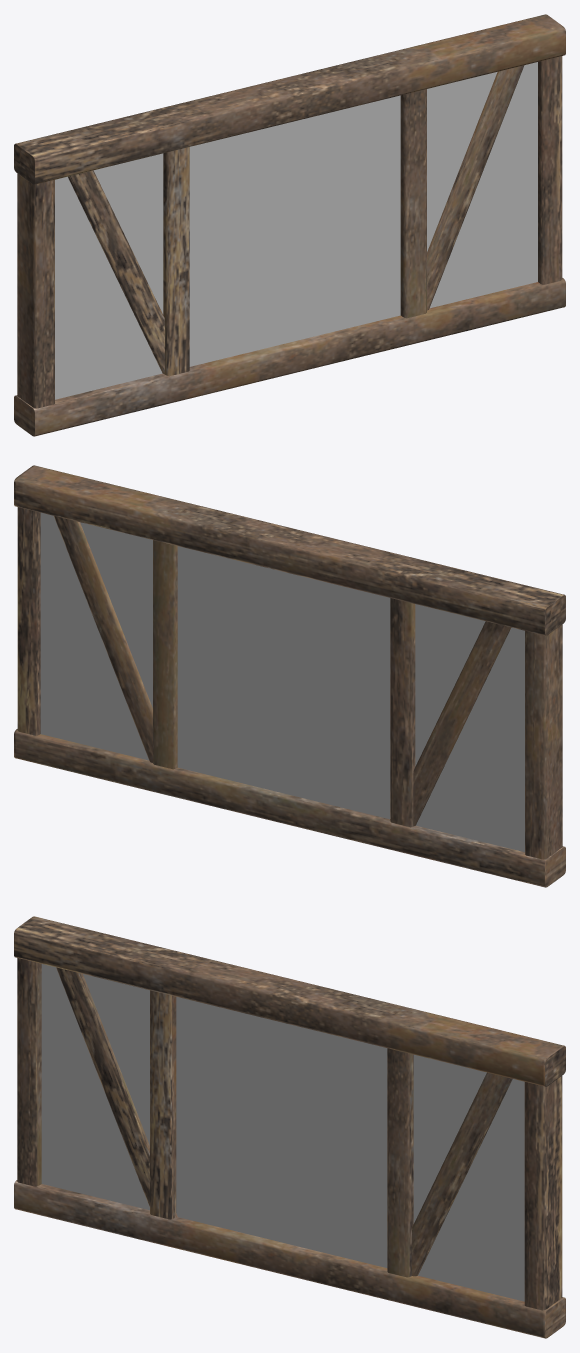
The model's file is HalfTimber_HalfWide_Closed.fbx.
The picture shows the model from 3 angles, top to bottom: view 1: azimuth 30°, elevation 25°; view 2: azimuth 150°, elevation 25°; view 3: azimuth 330°, elevation 25°; orthographic projection.
Visible parts, largest first — view 1: HalfTimber_HalfWide_Closed_LOD0; view 2: HalfTimber_HalfWide_Closed_LOD0; view 3: HalfTimber_HalfWide_Closed_LOD0.
Boxes of the visible parts, box(x1,y1,x2,y2) form: HalfTimber_HalfWide_Closed_LOD0: box(14, 14, 565, 436); HalfTimber_HalfWide_Closed_LOD0: box(14, 465, 565, 887); HalfTimber_HalfWide_Closed_LOD0: box(14, 916, 565, 1338).
Size of what is drawn, in the model's own units: 120 by 60.38 by 8.18.
